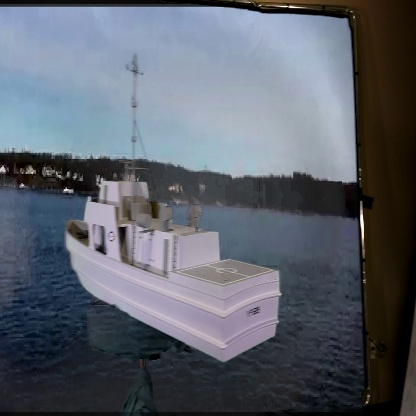YP689: (65, 57, 280, 364)
